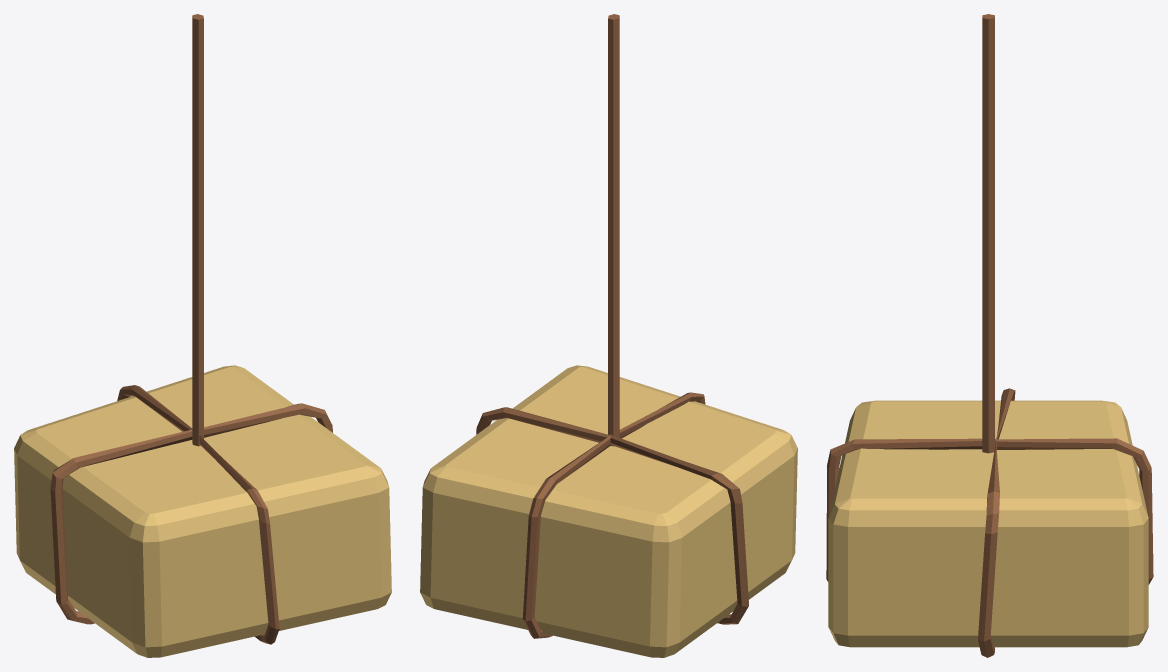
The model's file is littlesmasher.fbx.
3 views of the same model, side by side, from view 1: azimuth 30°, elevation 25°; view 2: azimuth 150°, elevation 25°; view 3: azimuth 270°, elevation 25° (orthographic).
Visible parts, largest first — view 1: Cylinder.013; view 2: Cylinder.013; view 3: Cylinder.013.
Boxes of the visible parts, x1,y1,x2,y2 form: Cylinder.013: [14, 14, 391, 657]; Cylinder.013: [420, 14, 797, 657]; Cylinder.013: [826, 14, 1153, 657].
Bounding box in the file's own units: 270 × 545 × 273.
